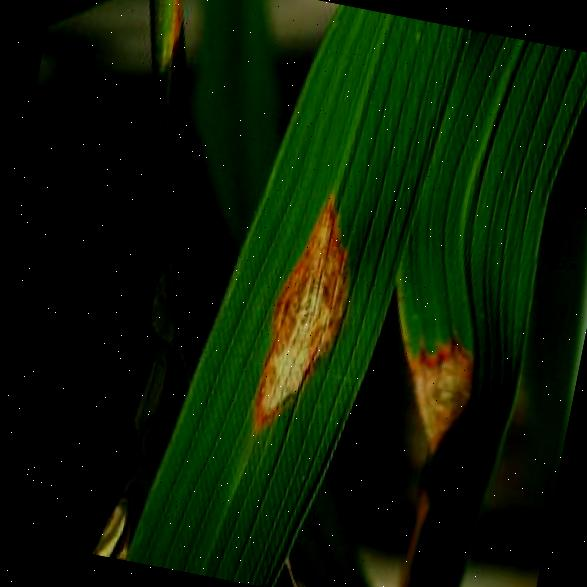Leaf_smut: (208, 162, 376, 464), (368, 322, 516, 478)
